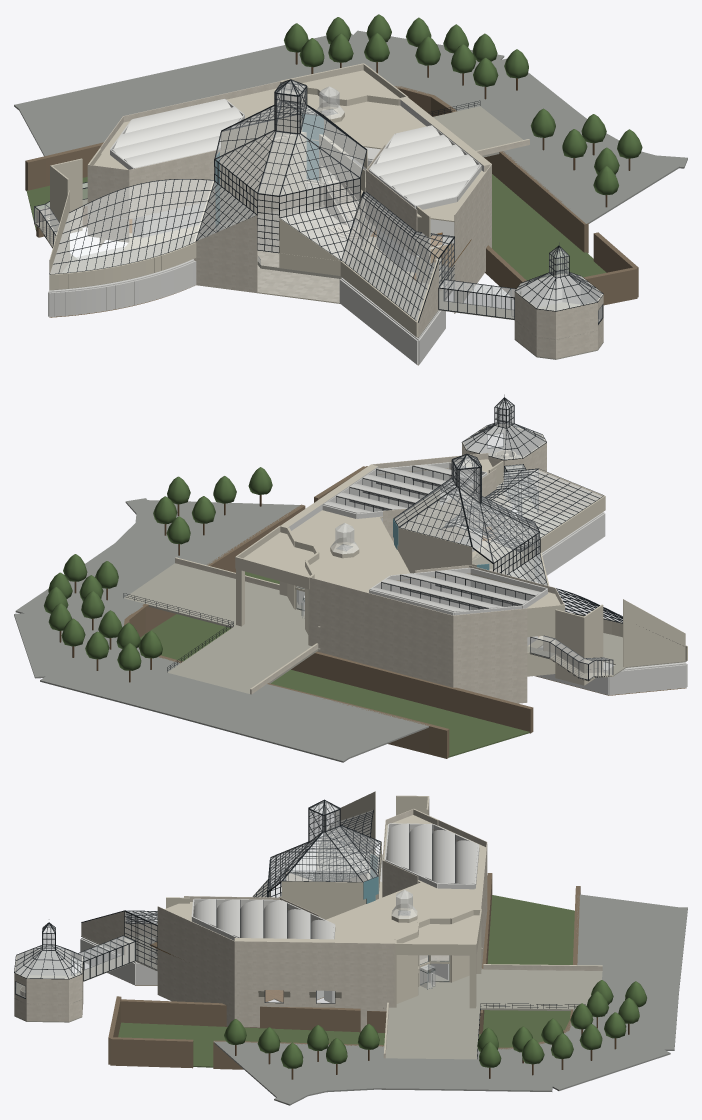
Rendered from MUDAM_R46_MERDIVEN_TAS_YUZEY_v002_preview.glb.
The picture shows the model from 3 angles, top to bottom: view 1: azimuth 30°, elevation 25°; view 2: azimuth 150°, elevation 25°; view 3: azimuth 270°, elevation 25°; orthographic projection. The views are drawn at different scales.
Parts seen in each view (by area): view 1: R38_PARK_APPROACH_GROUND, R35_MOAT_GROUND, P05_MAIN_ATRIUM_BASE_3, P05_MAIN_ROOF_DECK, R28_W_HIGH_GALLERY_WALL, R07_STAIRWELL_STONE_NORTH, P05_FRONT_0, P05_FLOOR_L00_GH, P05_GALLERY_HALL_WEST2, R35_WALL_49911001_07_2, P05_FLOOR_L00_EAST_GARDEN, R28_E_HIGH_GALLERY_WALL (+57 smaller); view 2: R38_PARK_APPROACH_GROUND, R34_APPROACH_CONTINUOUS_DECK, P05_FRONT_9, R35_MOAT_GROUND, P05_MAIN_ROOF_DECK, P05_FRONT_10, R35_WALL_51946353_03_0, P05_WEST_END, R35_WALL_51946353_04_0, R14_INNER_WALL_B, R29_W_BOUNDARY_32, R11_STONE_END (+27 smaller); view 3: R38_PARK_APPROACH_GROUND, R34_APPROACH_CONTINUOUS_DECK, R35_MOAT_GROUND, R27_CONTINUOUS_HEAD, P05_FRONT_0, P05_MAIN_ROOF_DECK, R35_WALL_51946353_00_0, R35_WALL_453755312_00_0, R17_WALL_6, P06_HIGH_EAVE_UPSTAND_5, P07_CANOPY_SLAB_ENVELOPE, P05_WEST_END (+27 smaller).
Boxes of the visible parts, x1,y1,x2,y2 form: R38_PARK_APPROACH_GROUND: (14,30,687,223); R35_MOAT_GROUND: (26,174,606,280); P05_MAIN_ATRIUM_BASE_3: (220,132,306,222); P05_MAIN_ROOF_DECK: (88,88,485,222); R28_W_HIGH_GALLERY_WALL: (129,149,223,218); R07_STAIRWELL_STONE_NORTH: (193,215,257,292); P05_FRONT_0: (454,164,491,313); P05_FLOOR_L00_GH: (216,205,368,276); P05_GALLERY_HALL_WEST2: (87,164,129,241); R35_WALL_49911001_07_2: (499,151,588,253); P05_FLOOR_L00_EAST_GARDEN: (342,248,452,338); R28_E_HIGH_GALLERY_WALL: (366,169,417,257); R38_PARK_APPROACH_GROUND: (14,498,429,762); R34_APPROACH_CONTINUOUS_DECK: (124,563,318,693); P05_FRONT_9: (309,577,453,687); R35_MOAT_GROUND: (140,571,529,757); P05_MAIN_ROOF_DECK: (291,459,564,622); P05_FRONT_10: (453,608,527,703); R35_WALL_51946353_03_0: (317,652,458,712); P05_WEST_END: (623,599,685,667); R35_WALL_51946353_04_0: (456,688,533,733); R14_INNER_WALL_B: (555,609,585,685); R29_W_BOUNDARY_32: (609,664,686,695); R11_STONE_END: (538,469,604,516); R38_PARK_APPROACH_GROUND: (214,894,687,1105); R34_APPROACH_CONTINUOUS_DECK: (385,969,602,1059); R35_MOAT_GROUND: (118,895,574,1067); R27_CONTINUOUS_HEAD: (234,938,394,991); P05_FRONT_0: (157,906,234,1026); P05_MAIN_ROOF_DECK: (157,815,486,949); R35_WALL_51946353_00_0: (121,999,386,1033); R35_WALL_453755312_00_0: (110,1037,193,1068); R17_WALL_6: (26,978,68,1021); P06_HIGH_EAVE_UPSTAND_5: (281,881,363,899); P07_CANOPY_SLAB_ENVELOPE: (403,915,479,943); P05_WEST_END: (334,791,375,854).
Size of the model in its own units: 125 by 36.19 by 133.
32 materials, 6 textured.
